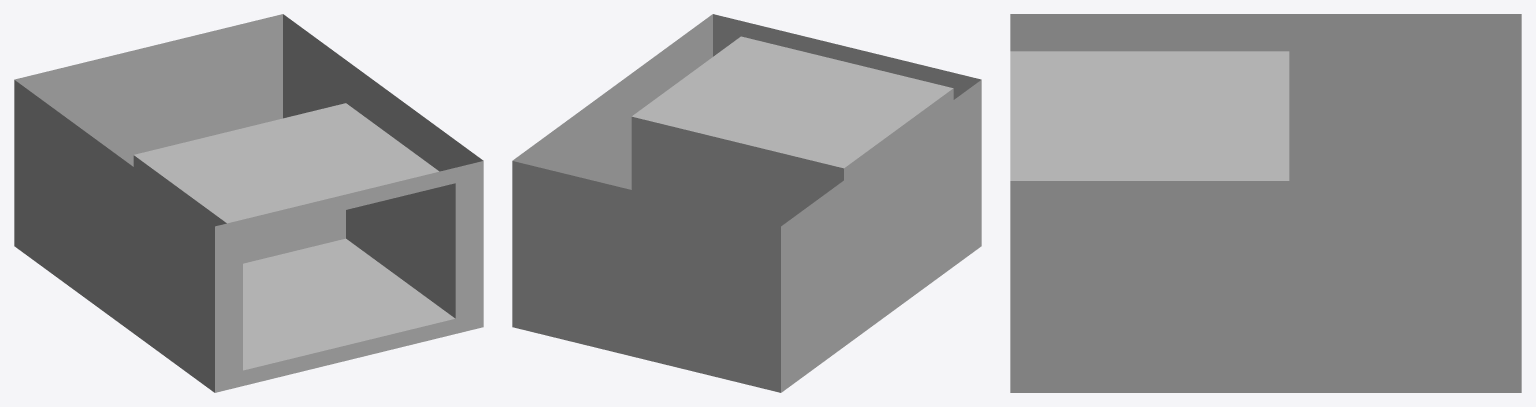
The model's file is Itr_Desk_Drawer_Bottom_06.FBX.
3 renders of one model, left to right at view 1: azimuth 30°, elevation 25°; view 2: azimuth 150°, elevation 25°; view 3: azimuth 270°, elevation 25°, orthographic. The views are drawn at different scales.
Parts seen in each view (by area): view 1: Itr_Desk_Drawer_Bottom_06; view 2: Itr_Desk_Drawer_Bottom_06; view 3: Itr_Desk_Drawer_Bottom_06.
Part boxes in pixels (bbox=[...]): Itr_Desk_Drawer_Bottom_06: bbox=[14, 14, 483, 392]; Itr_Desk_Drawer_Bottom_06: bbox=[512, 14, 981, 392]; Itr_Desk_Drawer_Bottom_06: bbox=[1010, 14, 1521, 392].
Bounding box in the file's own units: 18.22 × 10.79 × 23.55.
